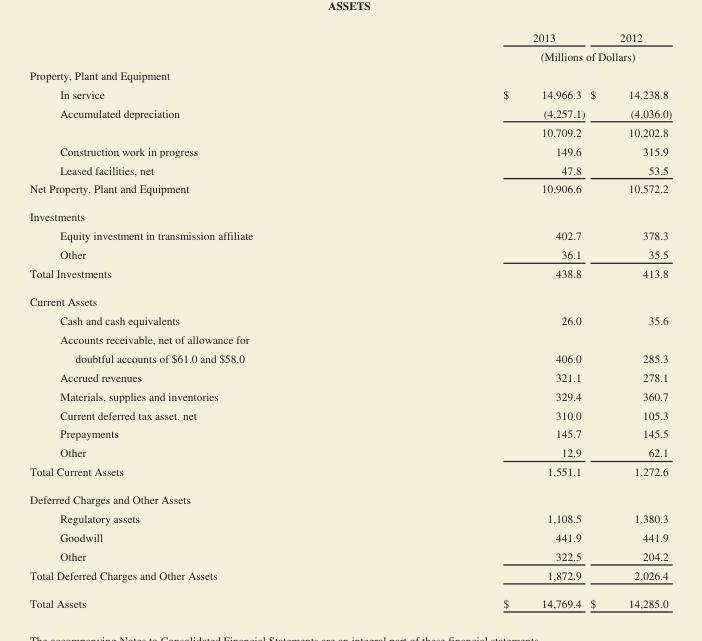table: (28, 28, 671, 609)
table column: (28, 28, 377, 609), (377, 28, 586, 609), (586, 28, 671, 609)
table column header: (28, 28, 671, 64)
table projected row header: (28, 201, 671, 225), (28, 484, 671, 508), (28, 286, 671, 309), (28, 64, 671, 83), (28, 328, 671, 347)
table row: (28, 201, 671, 225), (28, 484, 671, 508), (28, 564, 671, 588), (28, 178, 671, 201), (28, 263, 671, 286), (28, 286, 671, 309), (28, 461, 671, 484), (28, 588, 671, 609), (28, 64, 671, 83), (28, 83, 671, 102), (28, 102, 671, 121), (28, 121, 671, 140), (28, 140, 671, 159), (28, 159, 671, 178), (28, 225, 671, 244), (28, 244, 671, 263), (28, 309, 671, 328), (28, 328, 671, 347), (28, 347, 671, 366), (28, 366, 671, 385), (28, 385, 671, 404), (28, 404, 671, 423), (28, 423, 671, 442), (28, 442, 671, 461), (28, 508, 671, 527), (28, 527, 671, 546), (28, 28, 671, 46), (28, 46, 671, 64), (28, 546, 671, 564)
table spanning cell: (377, 46, 671, 64)
